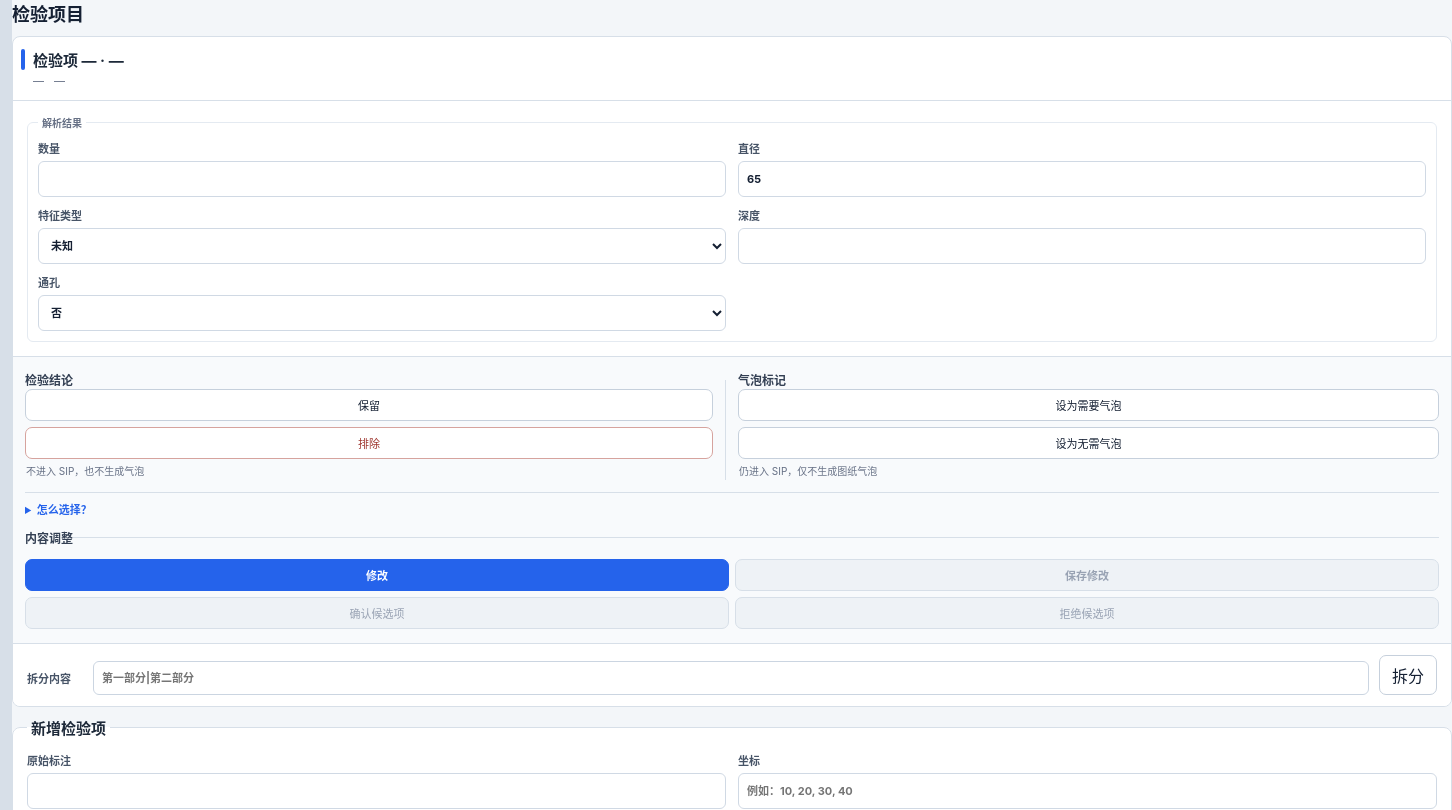
Scenario: ReviewPanel › 直径尺寸字段支持修改按钮和直接点击两种编辑入口
Expected: the dropdown named "特征类型：65" is enabled, x1=38 y1=228 x2=726 y2=264
Expected: the dropdown named "通孔：65" is enabled, x1=38 y1=295 x2=726 y2=331
Click the button with aria-label "修改检验项：65": (377, 575) x1=25 y1=559 x2=729 y2=591
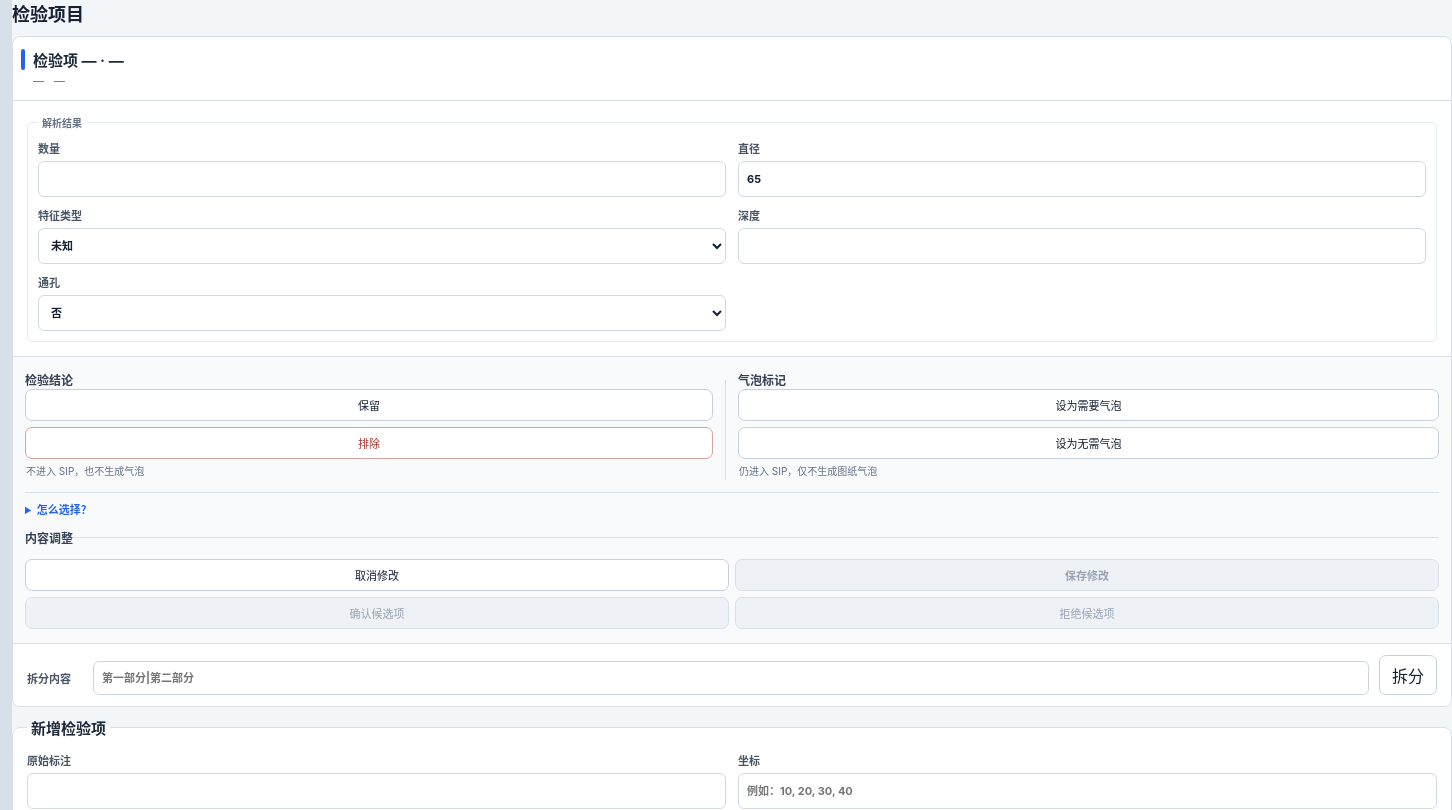
Expected: the dropdown named "特征类型：65" is enabled, x1=38 y1=228 x2=726 y2=264
Now the button with aria-label "取消修改检验项：65" is shown
Click the button with aria-label "取消修改检验项：65": (377, 575) x1=25 y1=559 x2=729 y2=591
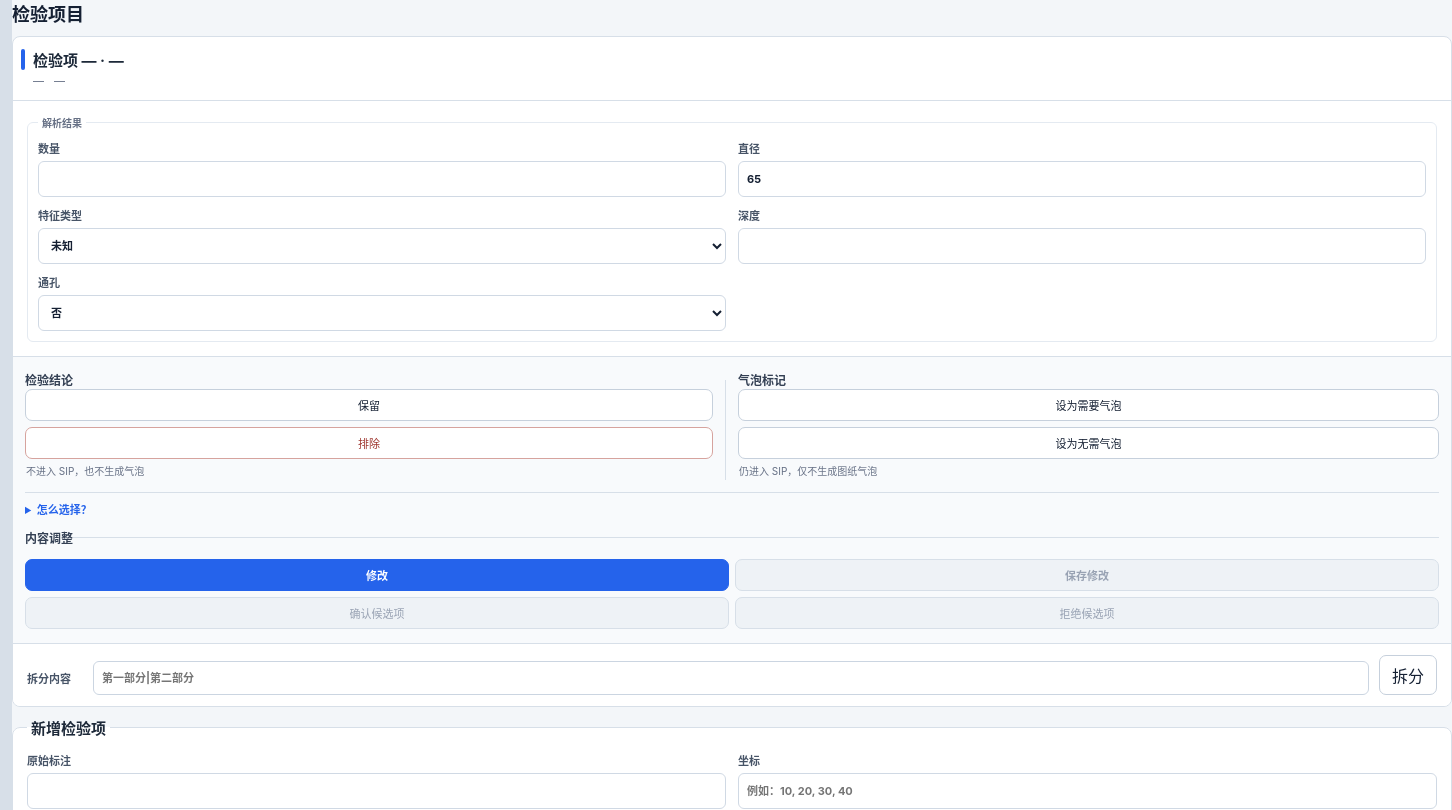
Focus the field named "直径：65": (1082, 179) x1=738 y1=161 x2=1426 y2=197
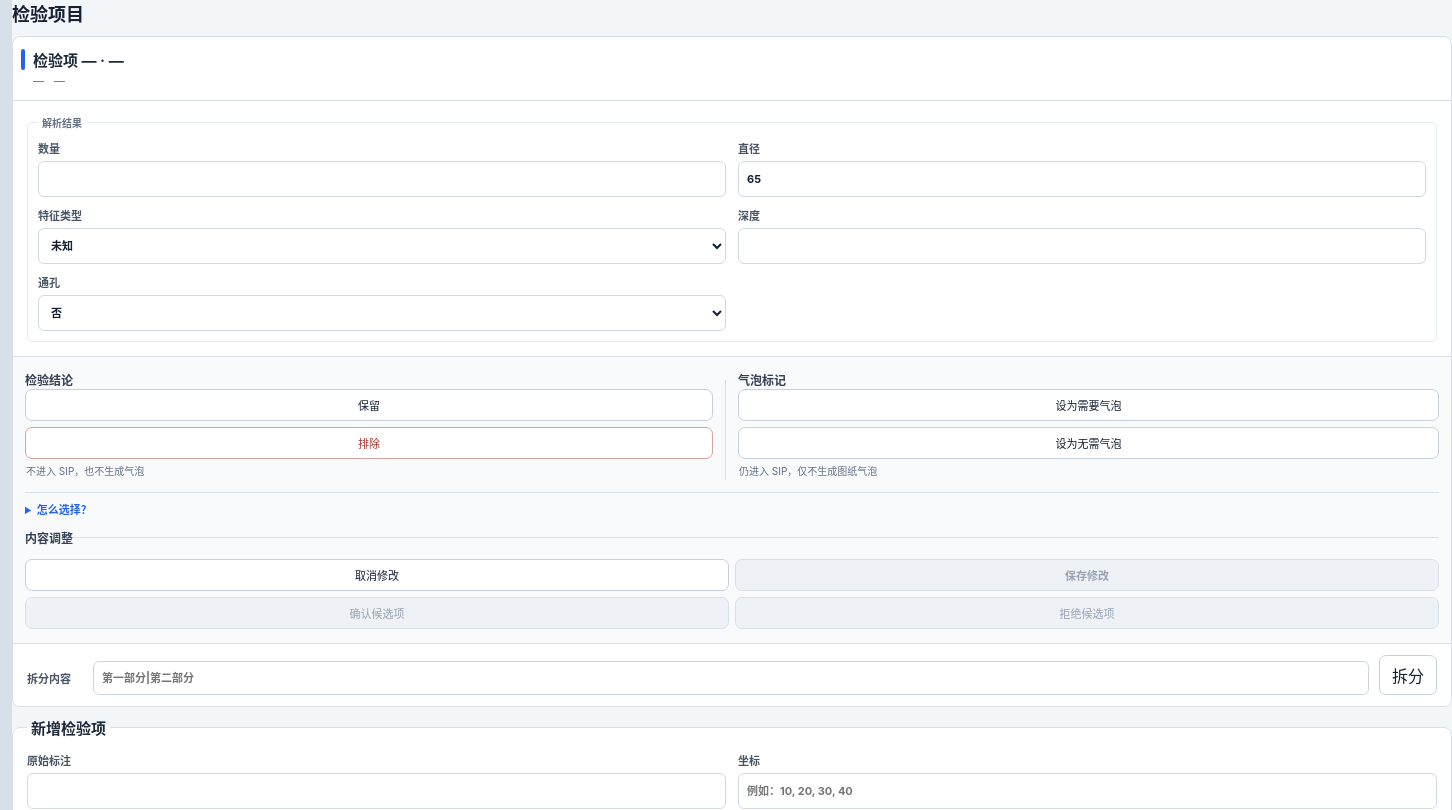
Expected: the dropdown named "特征类型：65" is enabled, x1=38 y1=228 x2=726 y2=264
Now the button with aria-label "取消修改检验项：65" is shown, box x1=25 y1=559 x2=729 y2=591
